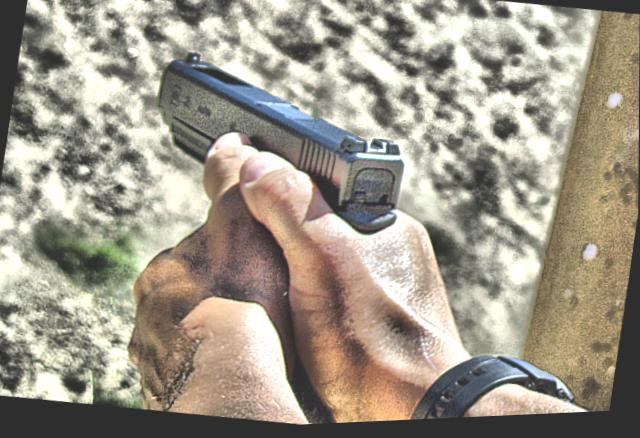pistol: (127, 36, 422, 284)
